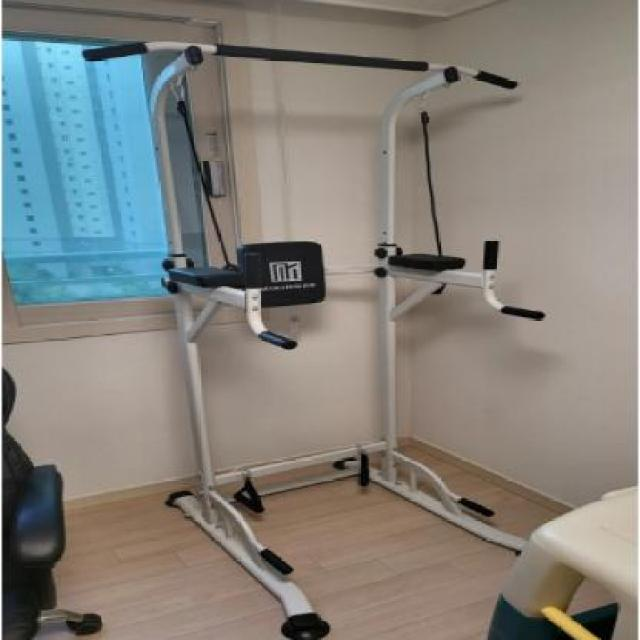chinning dipping: (86, 38, 545, 536)
